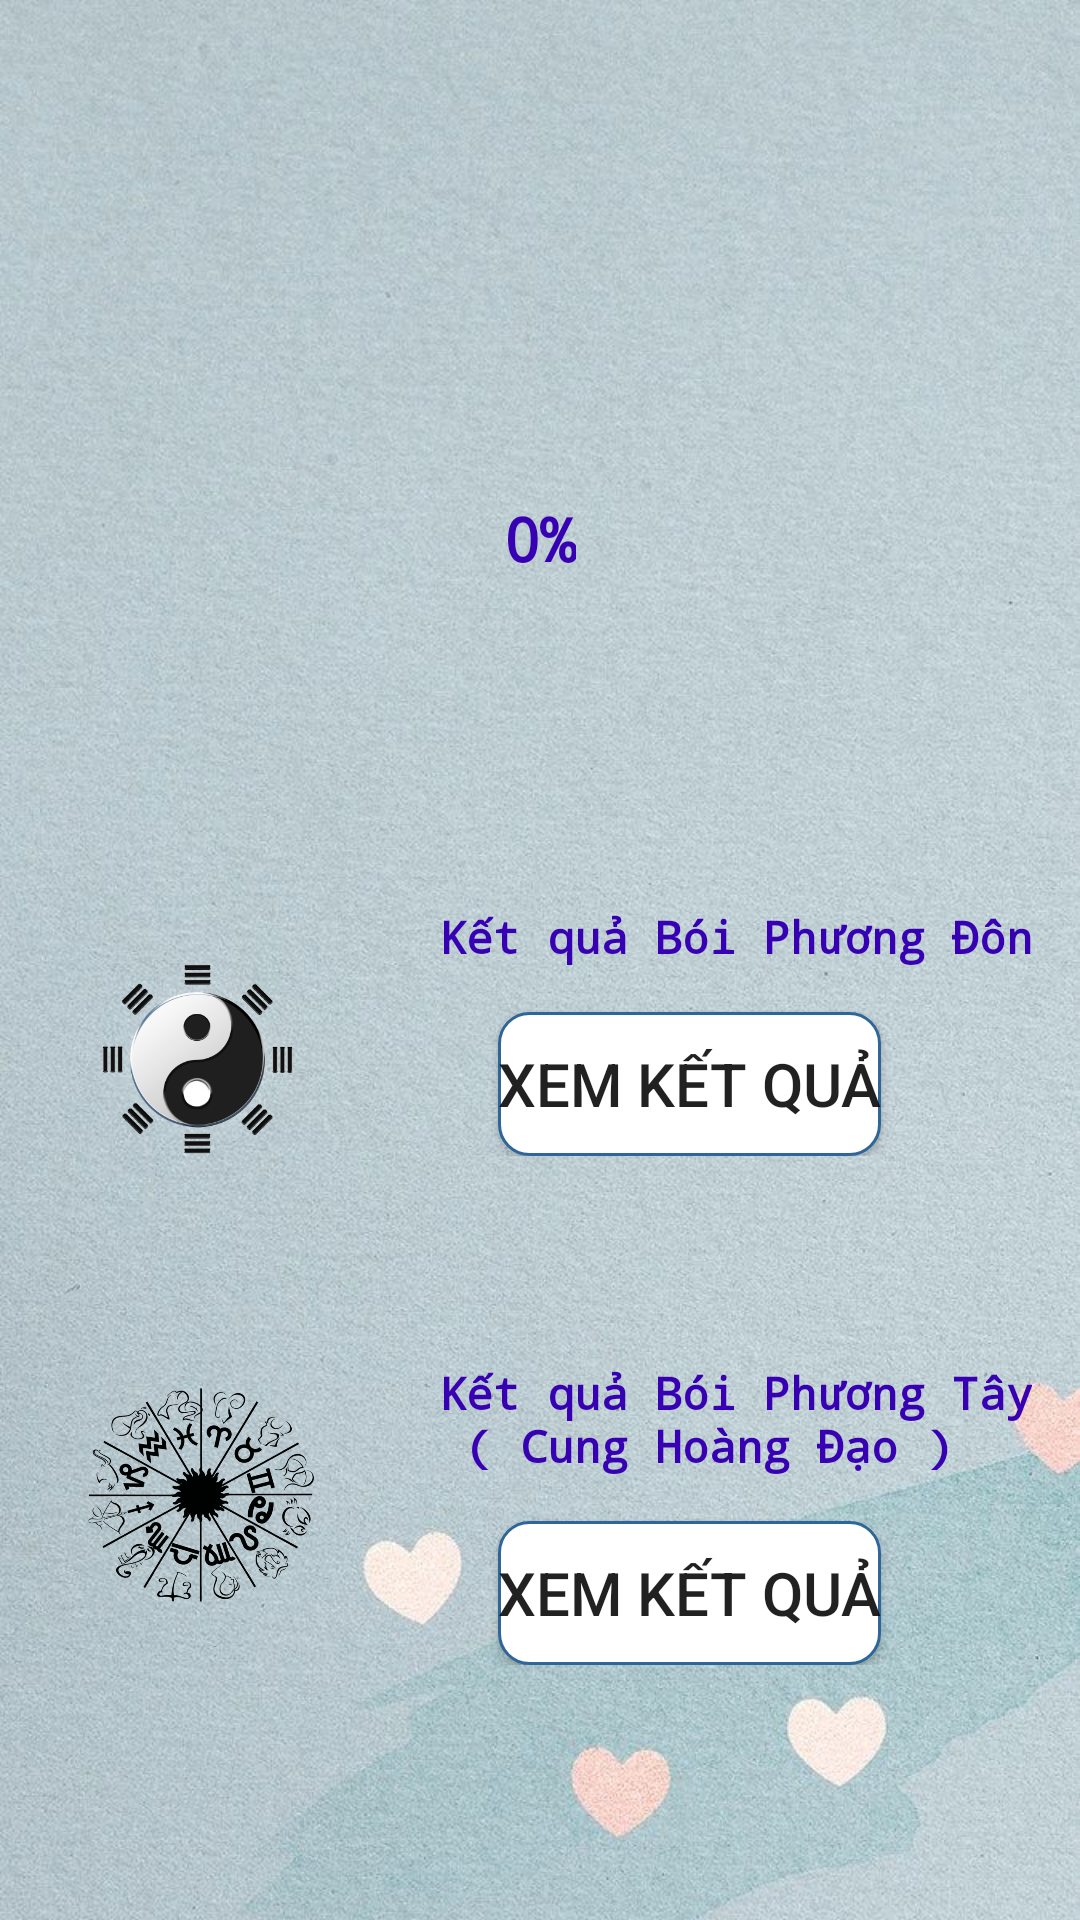

Icon click points for this 1080x1920 phone screenshot, format point (x, y):
batquai: point (200, 1057)
boiphuongtay: point (200, 1512)
